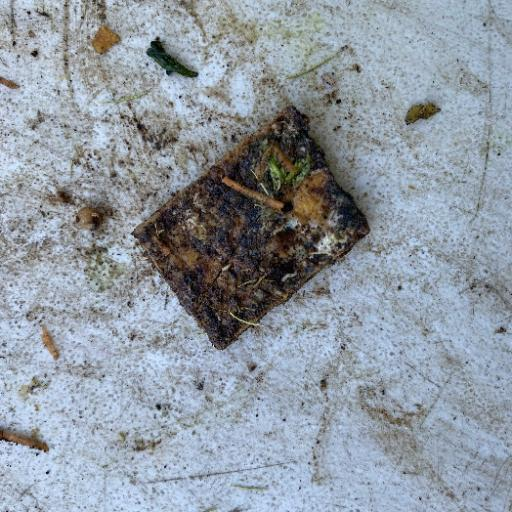Waste: (129, 104, 371, 350)
